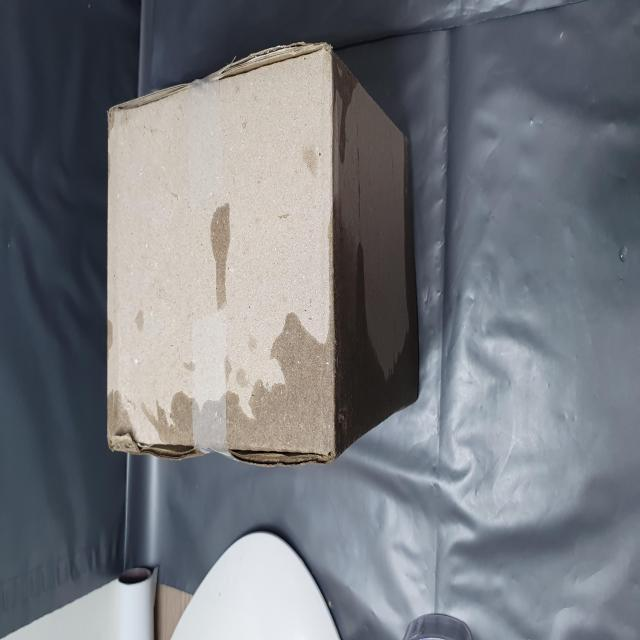wet: (96, 190, 184, 640)
